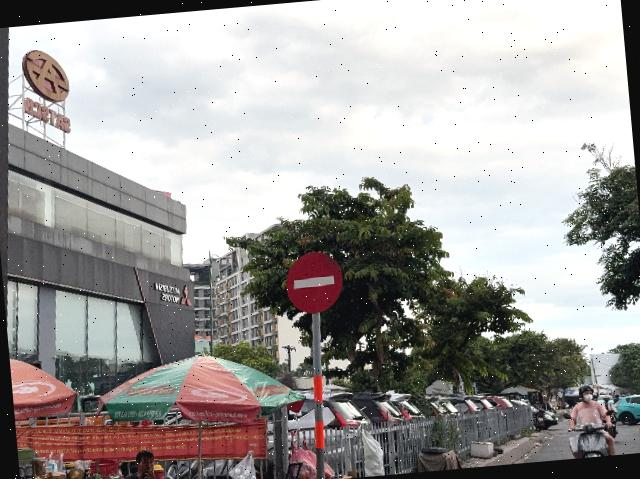cam-di-nguoc-chieu: (283, 249, 345, 316)
